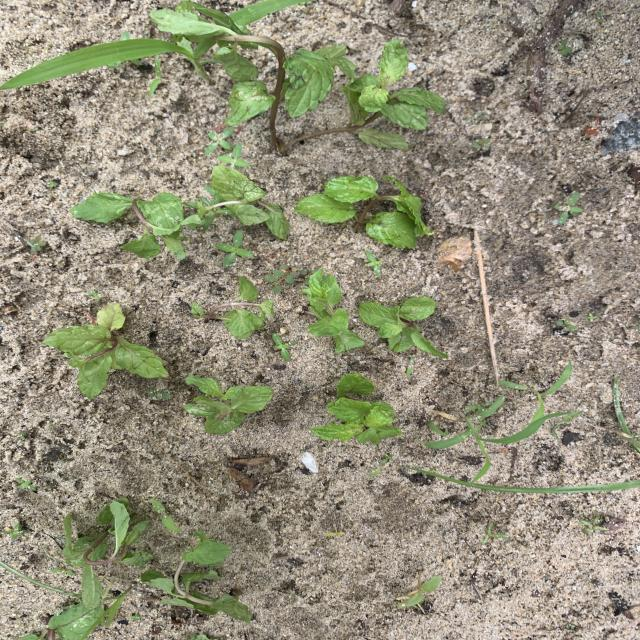crop: (151, 6, 444, 153), (44, 305, 167, 396), (141, 532, 251, 621), (62, 498, 151, 608), (298, 176, 432, 247), (72, 192, 188, 258), (185, 166, 288, 238), (311, 374, 402, 443), (359, 297, 447, 358), (185, 377, 272, 434), (192, 277, 274, 337), (305, 271, 363, 352), (18, 603, 105, 640)
weed: (422, 396, 545, 482), (2, 40, 209, 88), (499, 363, 572, 422), (1, 563, 80, 598), (230, 0, 309, 28), (399, 576, 441, 611), (217, 231, 252, 265), (265, 264, 304, 291), (151, 498, 179, 531), (553, 193, 583, 223), (219, 144, 248, 167), (206, 129, 233, 153), (274, 334, 295, 359), (482, 522, 507, 543), (366, 252, 383, 273), (5, 523, 27, 539), (556, 318, 575, 331), (557, 40, 573, 55), (29, 237, 46, 251), (16, 478, 34, 490), (148, 390, 171, 399), (473, 138, 490, 150), (382, 453, 391, 462), (89, 291, 99, 299), (325, 531, 343, 535), (17, 433, 24, 439)
